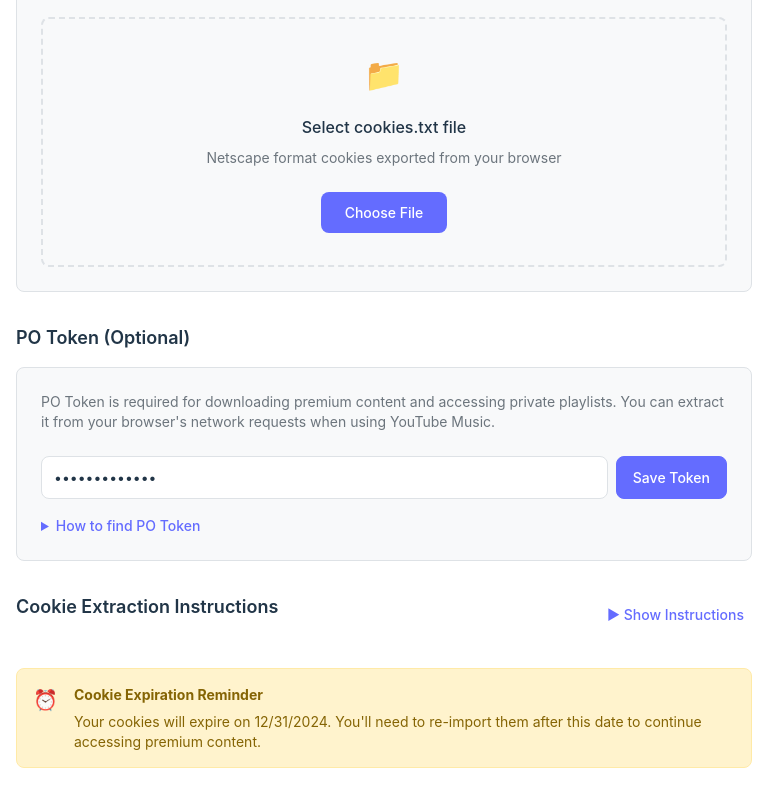
CookieManager Component › toggles instruction visibility
(page scrolled)
Step 1. Click the button "▶ Show Instructions" → (676, 614), box x1=599 y1=598 x2=752 y2=631
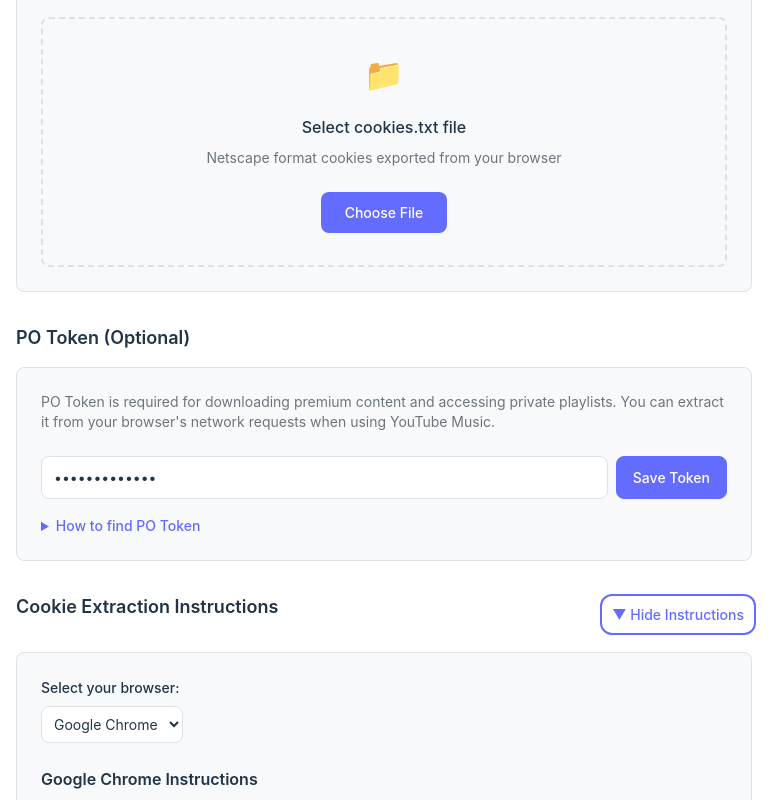
Check: the heading "Google Chrome Instructions" is shown, box x1=41 y1=769 x2=258 y2=789
Check: the text "Select your browser:" is shown, box x1=41 y1=679 x2=180 y2=696
# Hide instructions
Step 2. Click the button "▼ Hide Instructions" → (678, 614), box x1=604 y1=598 x2=752 y2=631
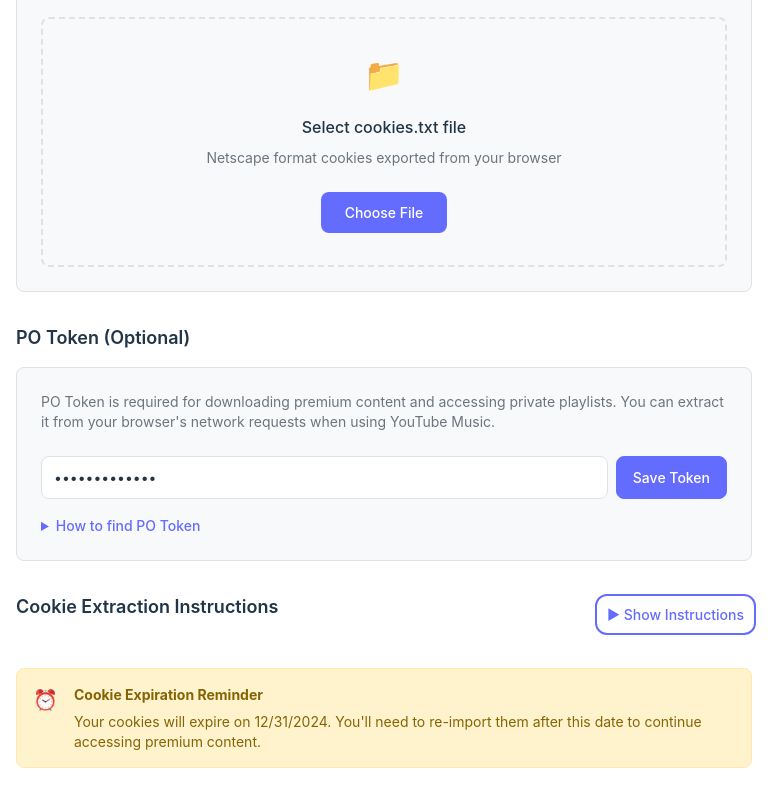
Check: the heading "Google Chrome Instructions" is gone
